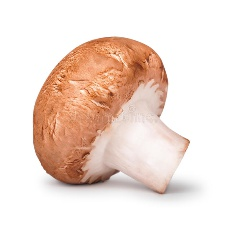mushroom: (32, 35, 191, 197)
